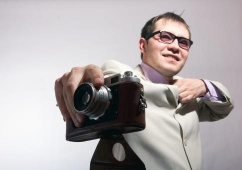male: (143, 15, 195, 78)
